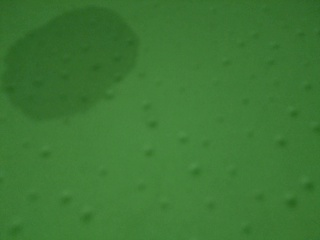Water_detected: (48, 20, 143, 100)
